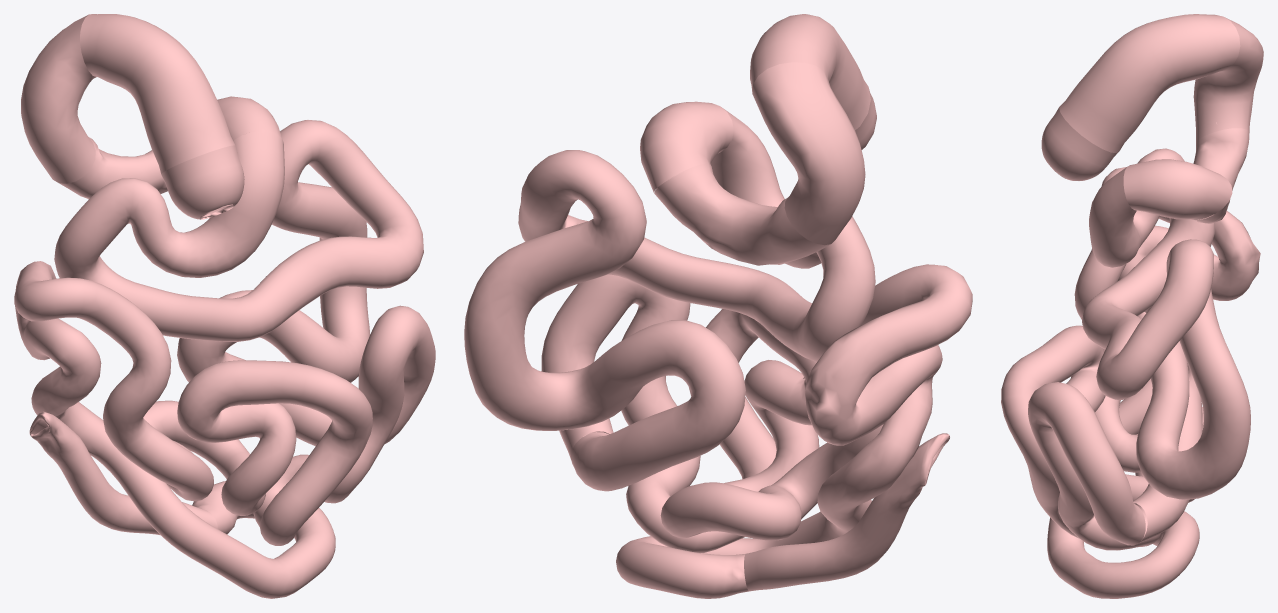
Rendered from vh_f_small_intestine-80.glb.
The picture shows the model from 3 angles, left to right: view 1: azimuth 30°, elevation 25°; view 2: azimuth 150°, elevation 25°; view 3: azimuth 270°, elevation 25°; orthographic projection. The views are drawn at different scales.
Visible parts, largest first — view 1: VH_F_ileum, VH_F_jejenum, VH_F_duodenum_superior, VH_F_duodenum_descending, VH_F_ileum_terminal, VH_F_duodenal_ampulla, VH_F_duodenum_horizontal, VH_F_duodenum_ascending; view 2: VH_F_ileum, VH_F_jejenum, VH_F_duodenum_descending, VH_F_ileum_terminal, VH_F_duodenum_horizontal, VH_F_duodenum_superior, VH_F_duodenum_ascending; view 3: VH_F_jejenum, VH_F_ileum, VH_F_duodenum_superior, VH_F_duodenum_ascending, VH_F_duodenum_descending, VH_F_duodenal_ampulla, VH_F_duodenum_horizontal.
Boxes of the visible parts, x1,y1,x2,y2 form: VH_F_ileum: (14, 261, 435, 598); VH_F_jejenum: (54, 120, 423, 446); VH_F_duodenum_superior: (80, 14, 234, 173); VH_F_duodenum_descending: (21, 14, 96, 183); VH_F_ileum_terminal: (29, 411, 217, 535); VH_F_duodenal_ampulla: (161, 145, 244, 219); VH_F_duodenum_horizontal: (59, 137, 167, 198); VH_F_duodenum_ascending: (217, 96, 281, 140); VH_F_ileum: (541, 264, 972, 598); VH_F_jejenum: (464, 107, 875, 491); VH_F_duodenum_descending: (752, 62, 865, 245); VH_F_ileum_terminal: (744, 433, 949, 591); VH_F_duodenum_horizontal: (654, 163, 830, 265); VH_F_duodenum_superior: (750, 14, 870, 130); VH_F_duodenum_ascending: (640, 101, 733, 193); VH_F_jejenum: (1082, 148, 1250, 542); VH_F_ileum: (1001, 167, 1260, 598); VH_F_duodenum_superior: (1059, 14, 1240, 153); VH_F_duodenum_ascending: (1123, 159, 1232, 219); VH_F_duodenum_descending: (1193, 17, 1263, 142); VH_F_duodenal_ampulla: (1041, 108, 1119, 180); VH_F_duodenum_horizontal: (1193, 128, 1249, 223).
Bounding box in the file's own units: 0.1616 × 0.2172 × 0.1.
